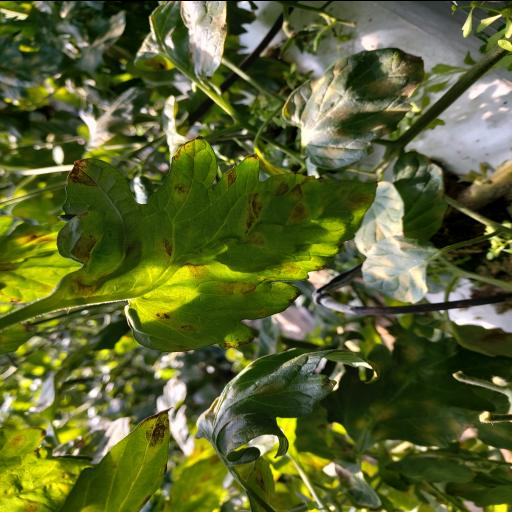Leaf Mold: (54, 138, 376, 354), (282, 45, 426, 168), (361, 234, 439, 304)
